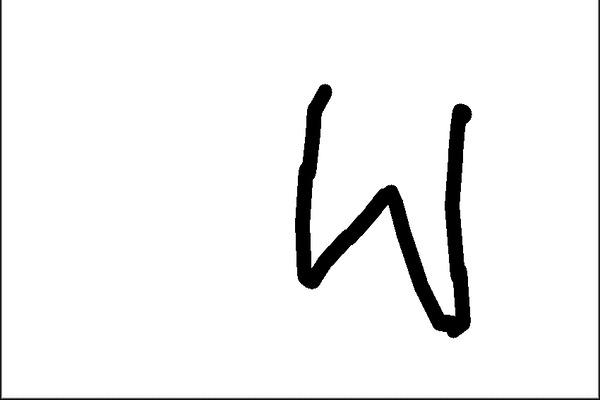w: (277, 69, 492, 351)
